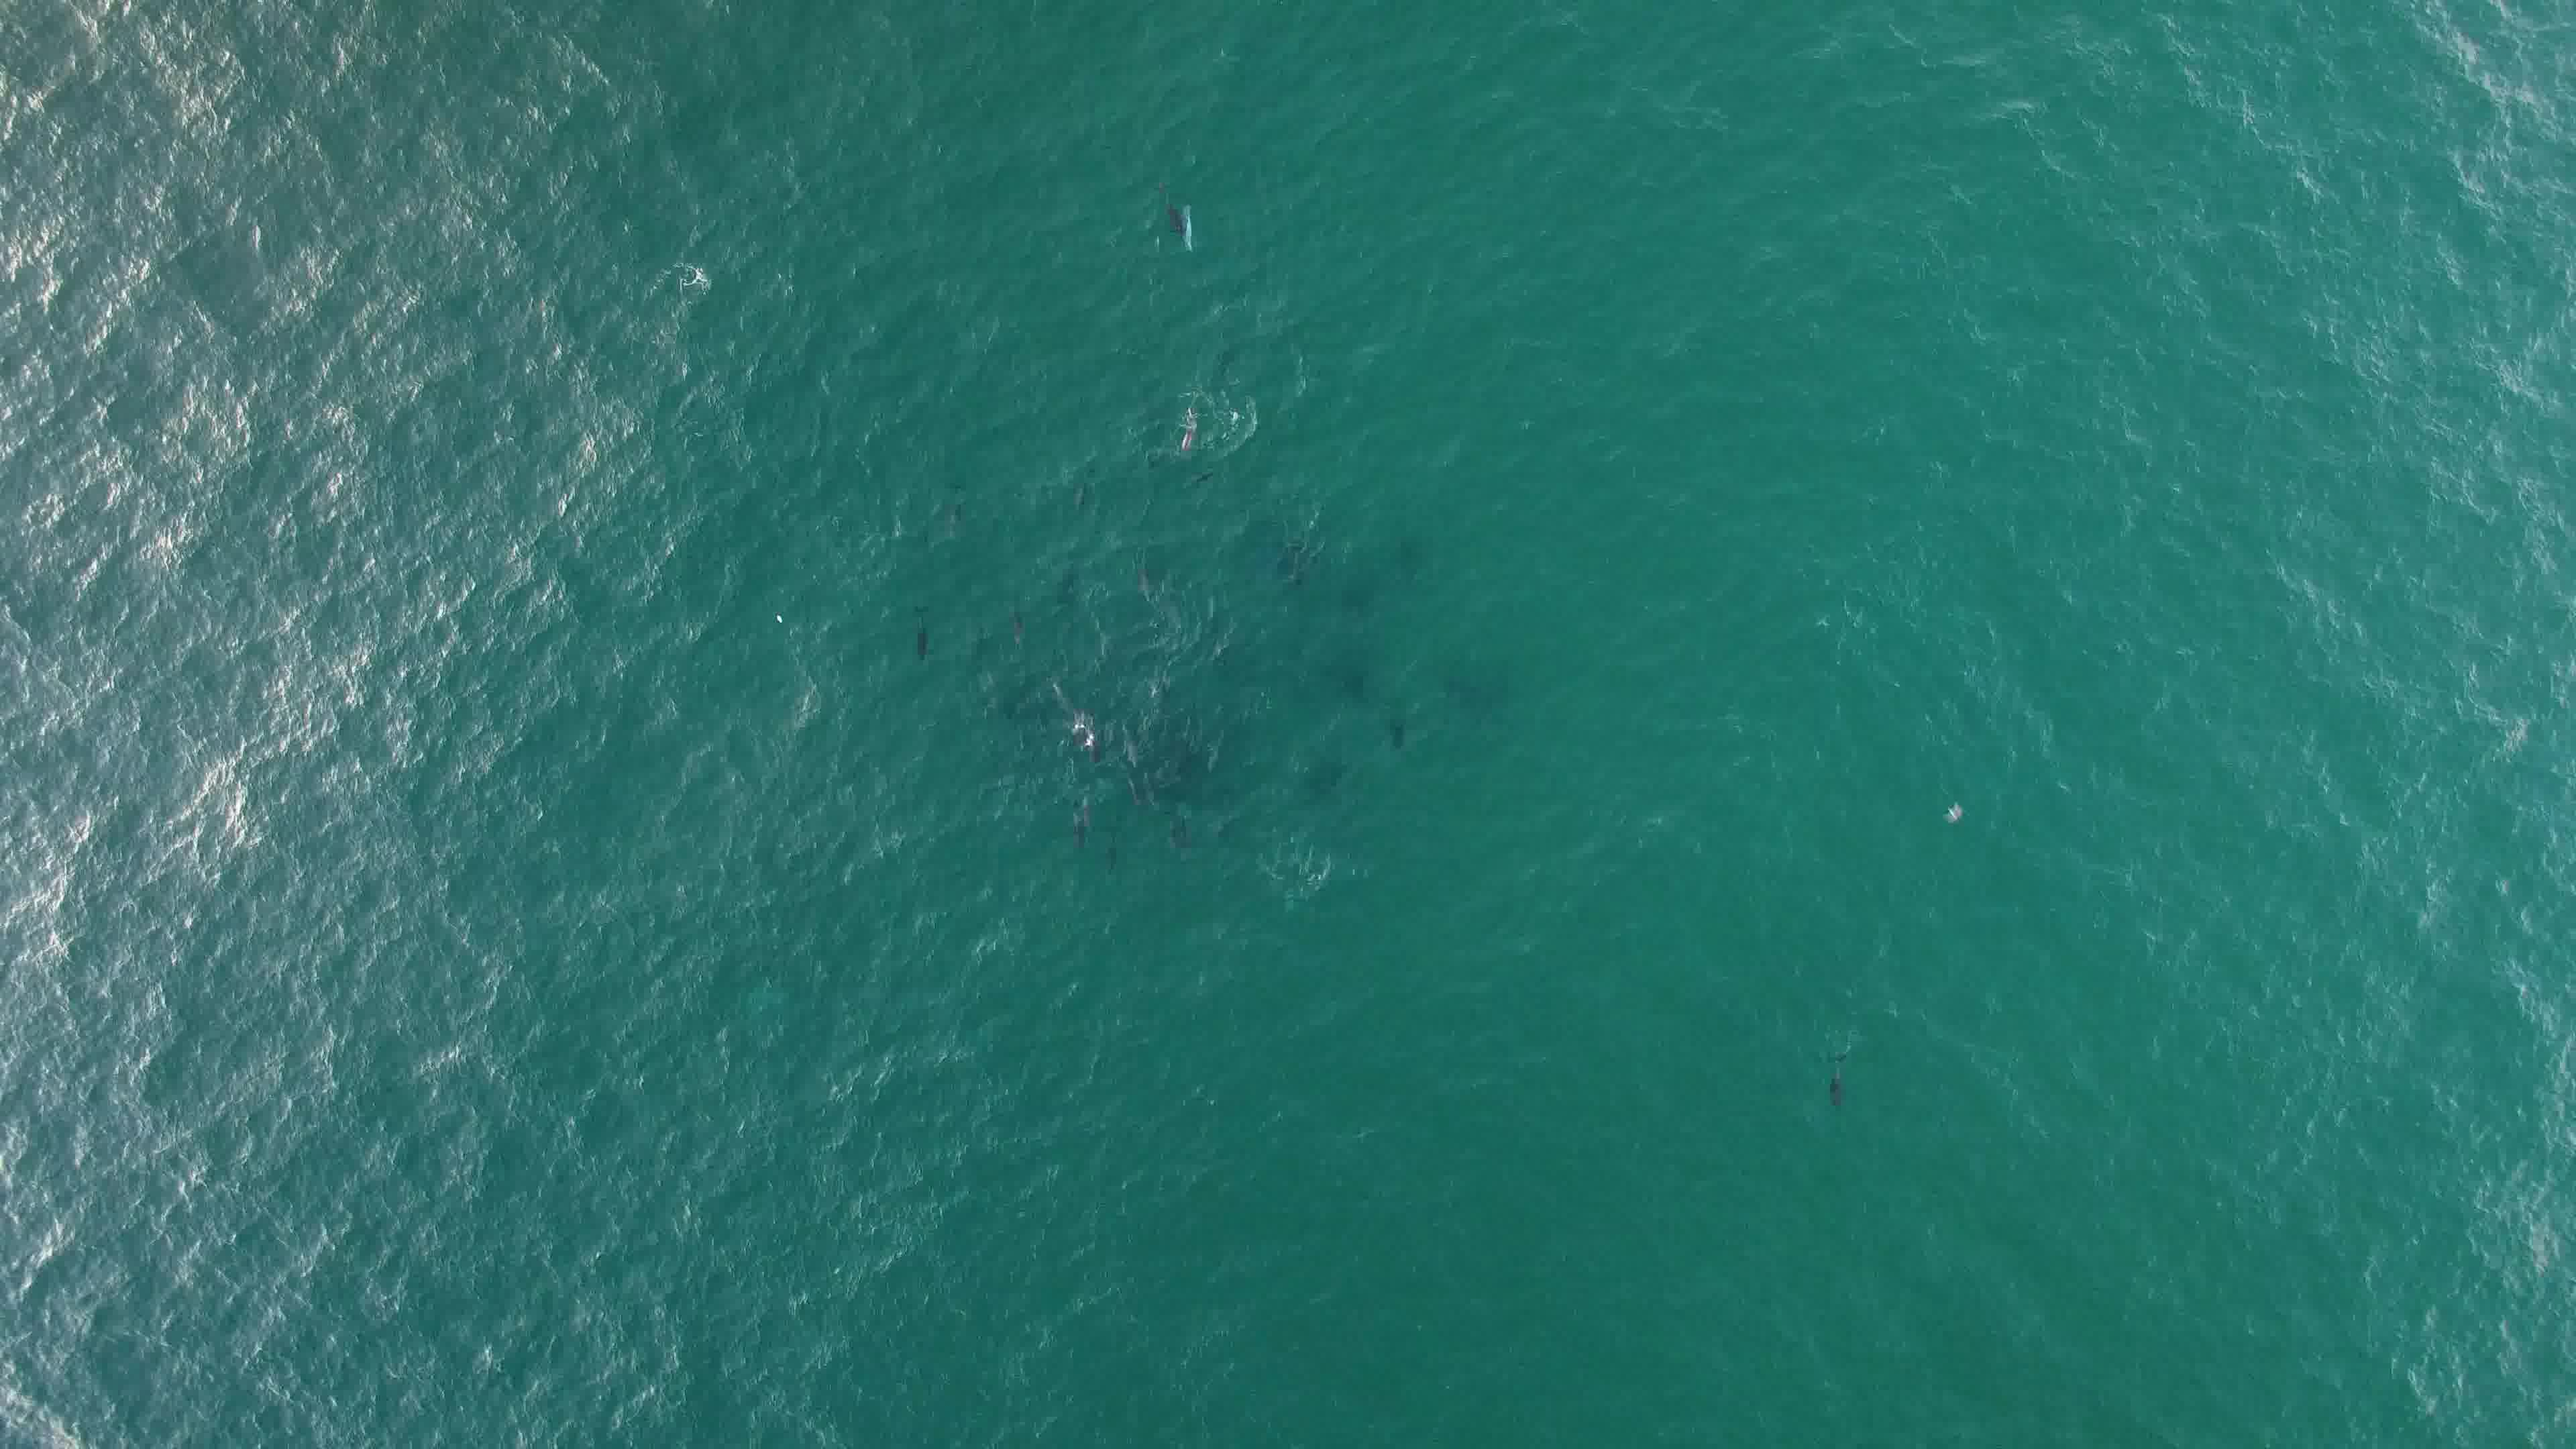dolphin: (1051, 683, 1113, 771), (1146, 165, 1196, 255), (1810, 1028, 1861, 1115), (1060, 782, 1099, 862), (901, 596, 941, 672), (1120, 755, 1162, 819), (1169, 398, 1207, 467), (1000, 591, 1033, 656)
